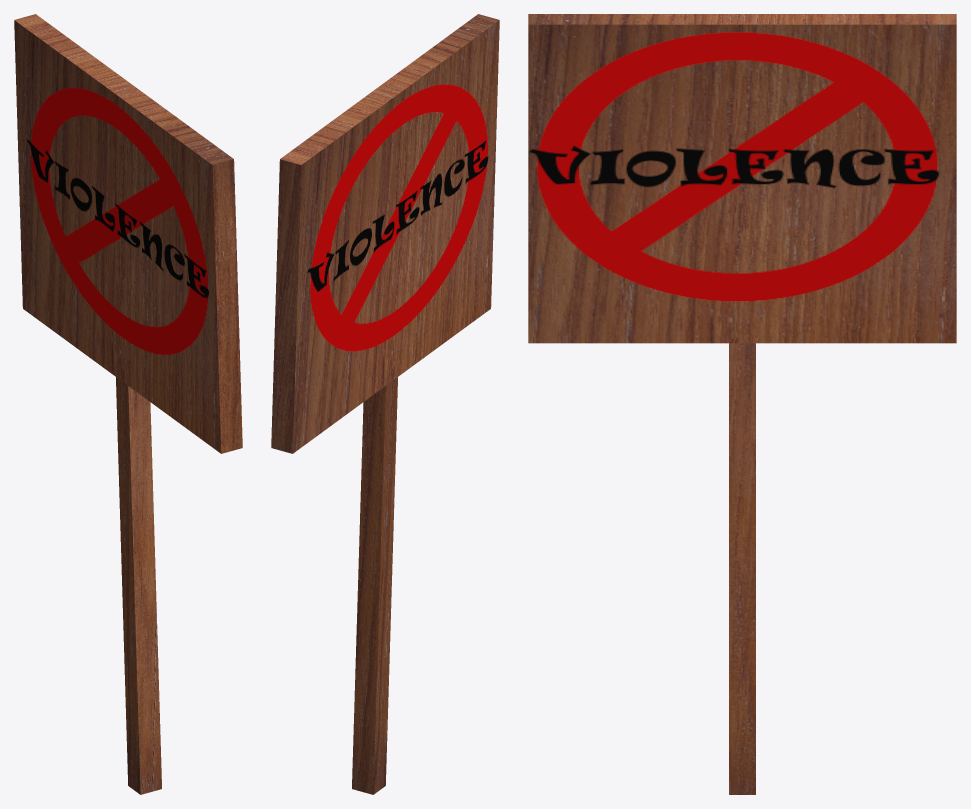
Rendered from NoViolence2.fbx.
3 renders of one model, left to right at view 1: azimuth 30°, elevation 25°; view 2: azimuth 150°, elevation 25°; view 3: azimuth 270°, elevation 25°, orthographic. The views are drawn at different scales.
Visible parts, largest first — view 1: Cube; view 2: Cube; view 3: Cube.
Part boxes in pixels (box(x1,y1,x2,y2)): Cube: box(14, 14, 242, 794); Cube: box(271, 14, 499, 794); Cube: box(528, 14, 956, 794).
Size of the model in its own units: 13.2 by 209 by 107.
1 material, 1 textured.
